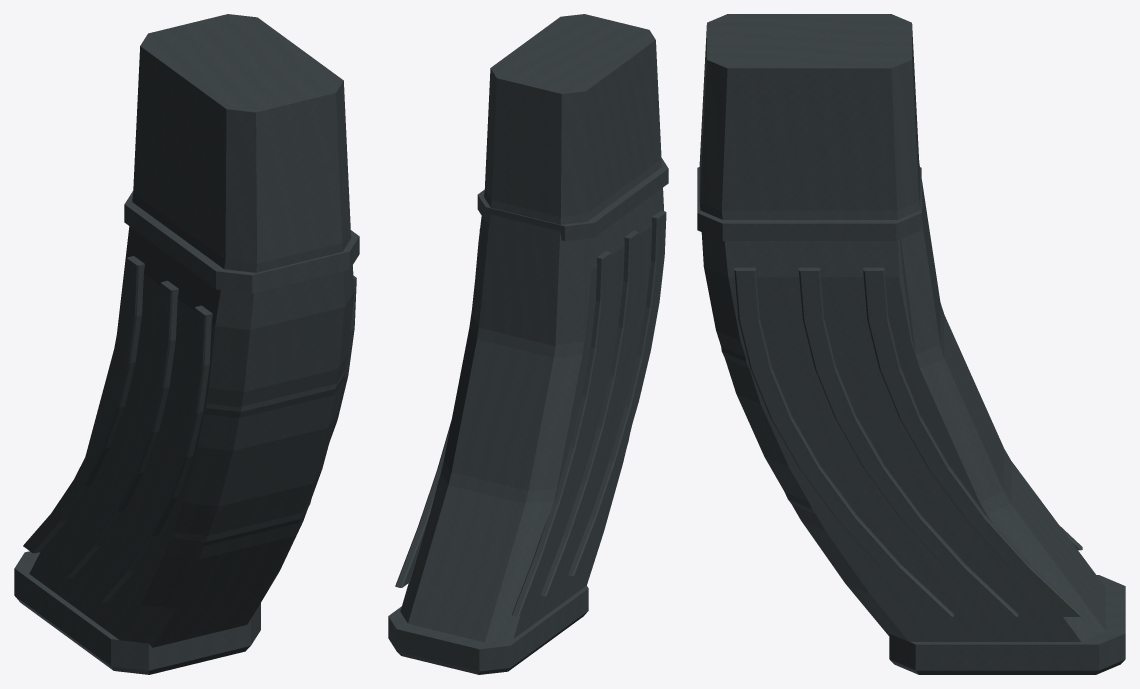
3 views of the same model, side by side, from view 1: azimuth 30°, elevation 25°; view 2: azimuth 150°, elevation 25°; view 3: azimuth 270°, elevation 25° (orthographic). The views are drawn at different scales.
Parts seen in each view (by area): view 1: ak762_20_curved_shell_0, ak762_20_curved_shell_1; view 2: ak762_20_curved_shell_0, ak762_20_curved_shell_1; view 3: ak762_20_curved_shell_0, ak762_20_curved_shell_1.
Part boxes in pixels (box(x1,y1,x2,y2)): ak762_20_curved_shell_0: box(14, 14, 359, 674); ak762_20_curved_shell_1: box(29, 268, 344, 637); ak762_20_curved_shell_0: box(388, 14, 668, 674); ak762_20_curved_shell_1: box(400, 189, 646, 642); ak762_20_curved_shell_0: box(697, 14, 1125, 674); ak762_20_curved_shell_1: box(721, 164, 1105, 641).
Size of the model in its own units: 0.07 by 0.278 by 0.1795.
Materials: 1 (1 with a texture image).
